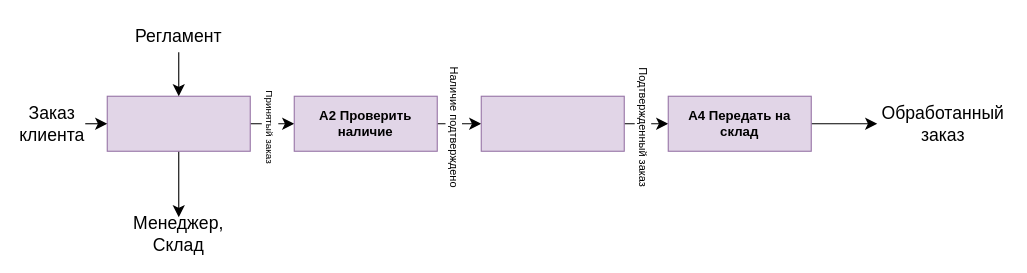
The diagram is 1027 pixels wide and 273 high, and some of its shapes have lost their labels. Here are the shapes that lost their labels. From the top down, the centre of each, then its label:
At (178,123): "A1 Принять заказ".
At (552,123): "A3 Подтвердить заказ".
